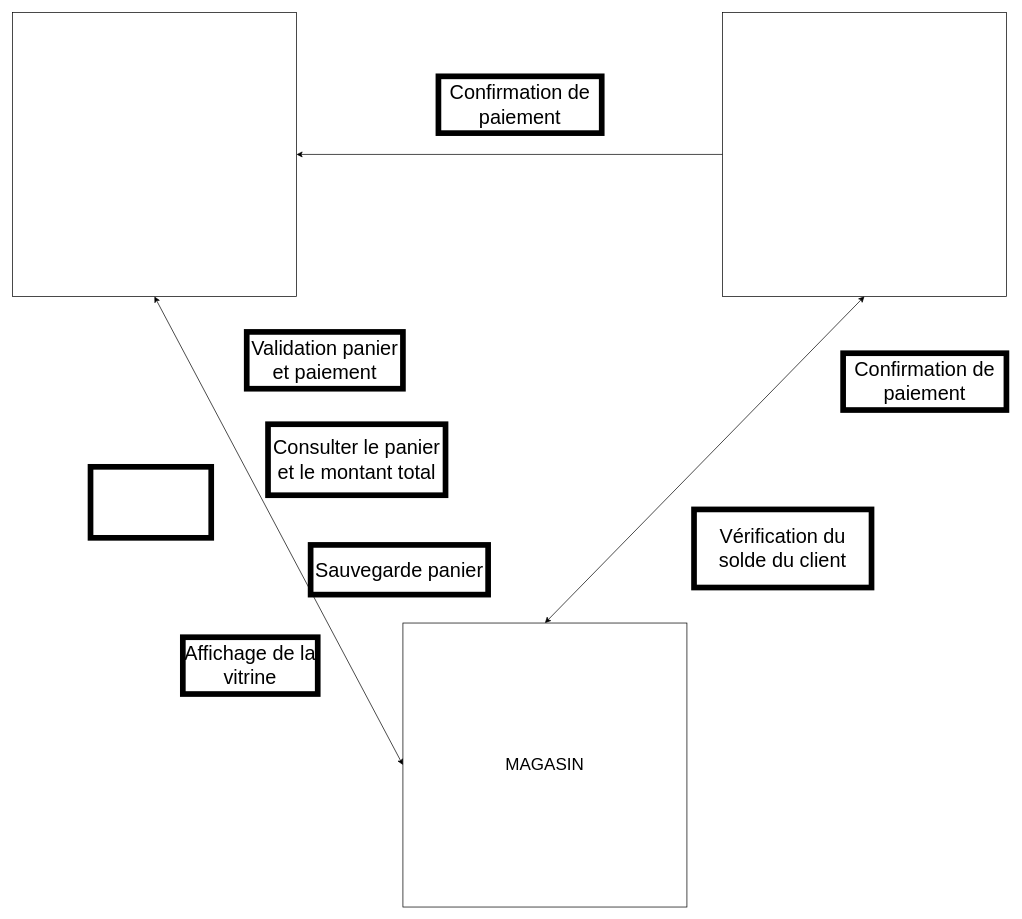
The diagram is 1022 pixels wide and 919 high, and some of its shapes have lost their labels. Here are the shapes that lost their labels. From the top down, the box of each, then its label:
(12, 12, 296, 296): CLIENT
(722, 12, 1006, 296): BANQUE
(87, 464, 214, 540): Connexion au magasin
